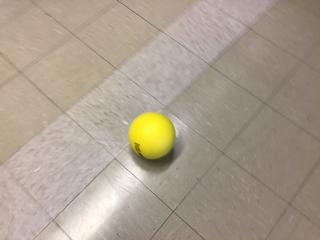power_cell: (127, 109, 176, 160)
